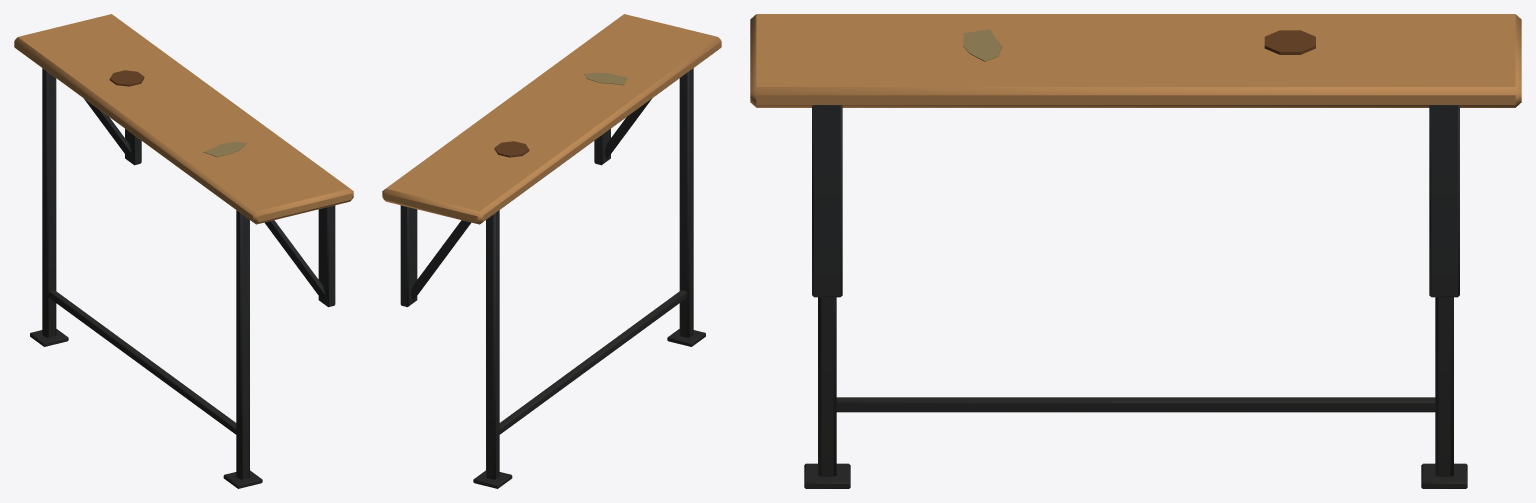
The model's file is 55_table_haute_murale.fbx.
3 views of the same model, side by side, from view 1: azimuth 30°, elevation 25°; view 2: azimuth 150°, elevation 25°; view 3: azimuth 270°, elevation 25° (orthographic). The views are drawn at different scales.
Visible parts, largest first — view 1: Table; view 2: Table; view 3: Table.
Part boxes in pixels (x1=…): Table: x1=14, y1=14, x2=353, y2=488; Table: x1=382, y1=14, x2=721, y2=488; Table: x1=750, y1=14, x2=1521, y2=488.
Size of the model in its own units: 0.336 by 0.924 by 1.4.
Materials: 1 (1 with a texture image).
